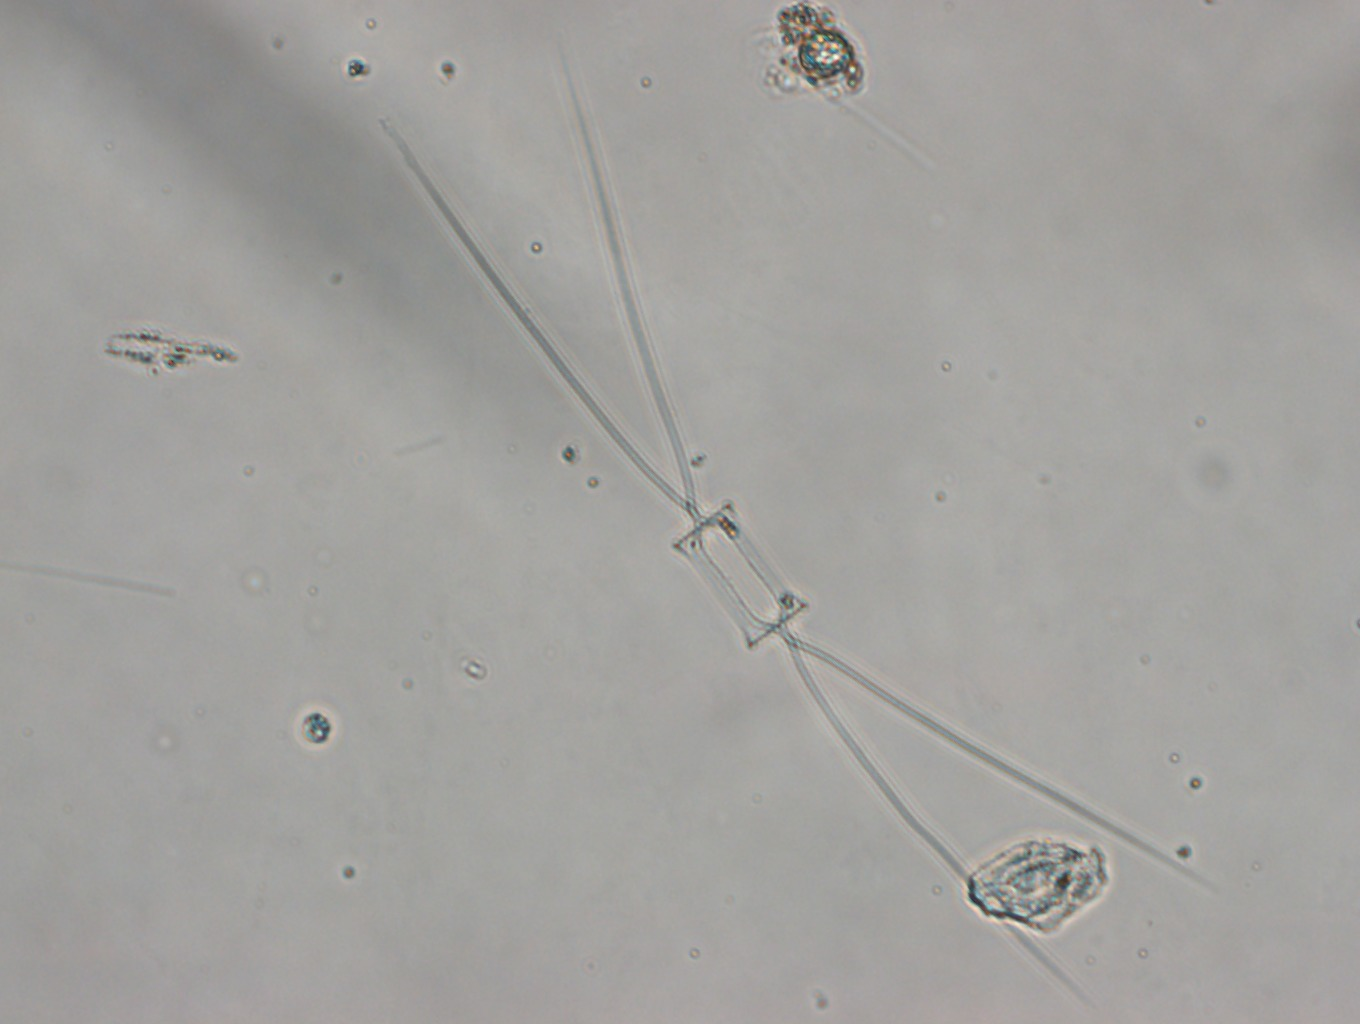chaetoceros: (371, 40, 1203, 995)
